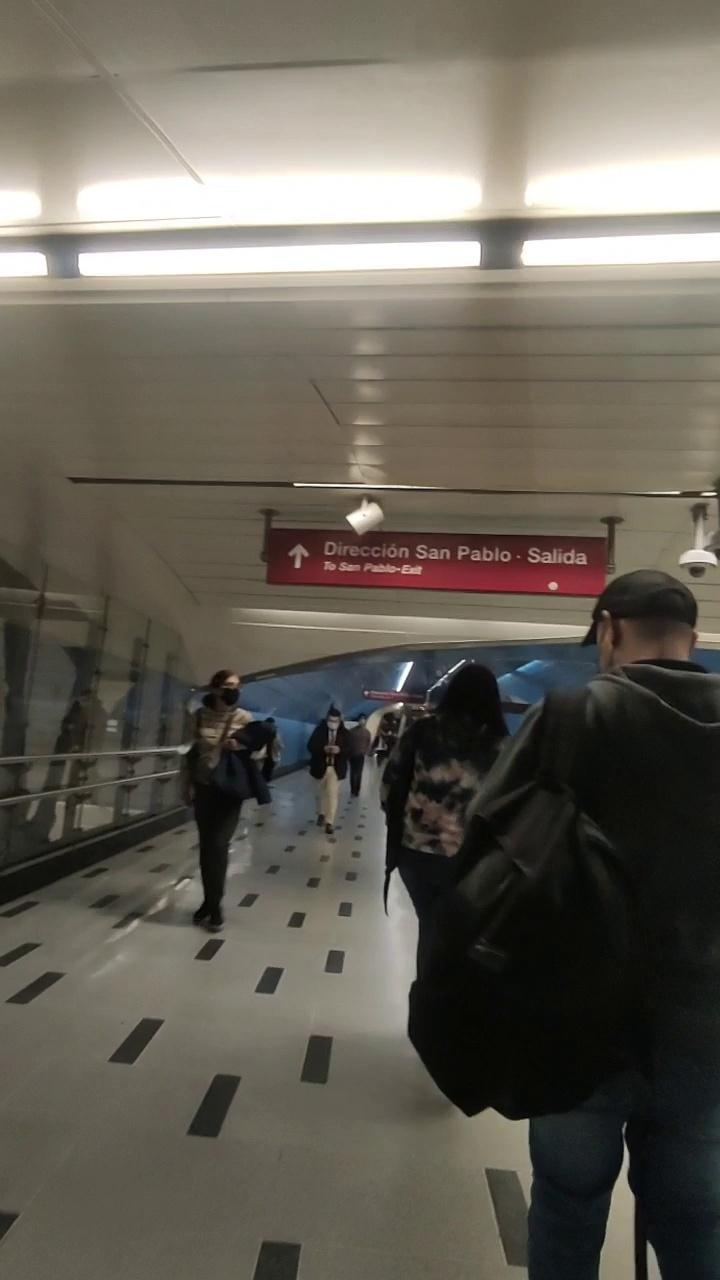up arrow: (284, 540, 314, 570)
